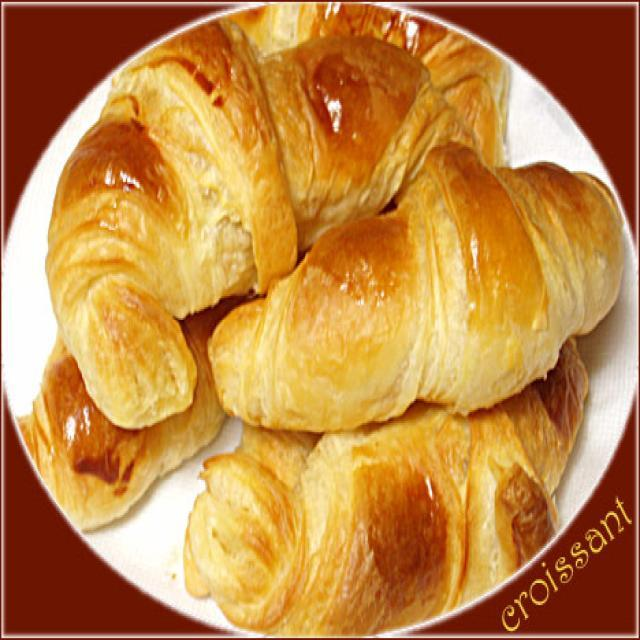Croissant: (46, 36, 482, 406)
